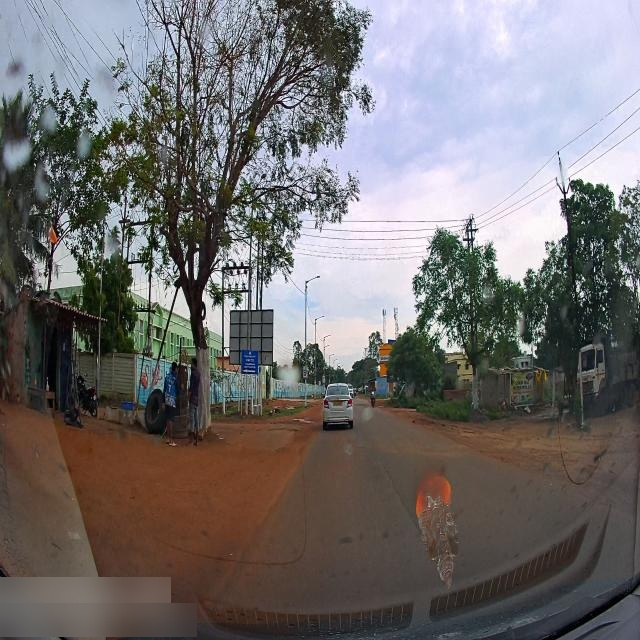pothole: (292, 412, 318, 426)
